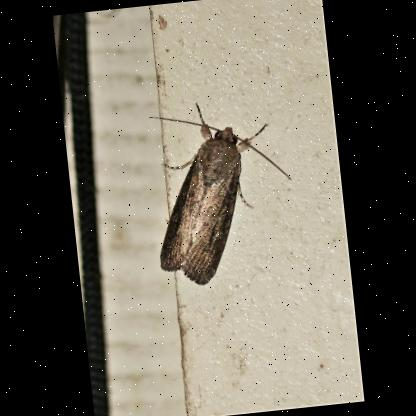Fall Armyworm Moth: (143, 92, 304, 291)
